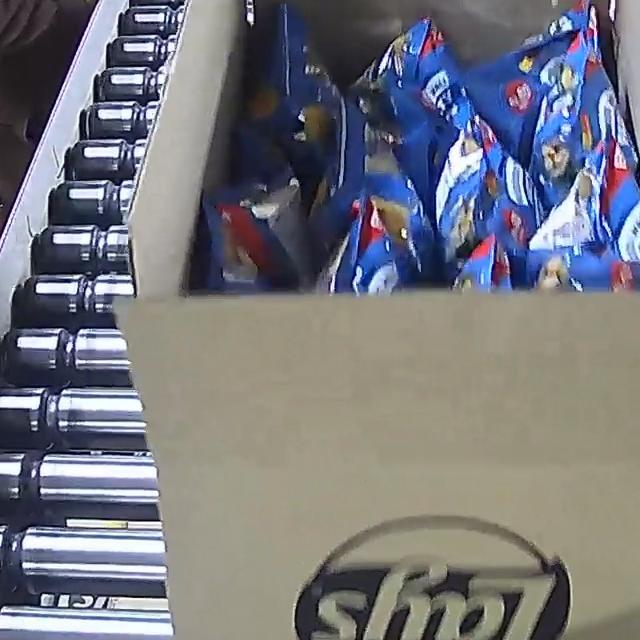paprika: (205, 0, 640, 295)
